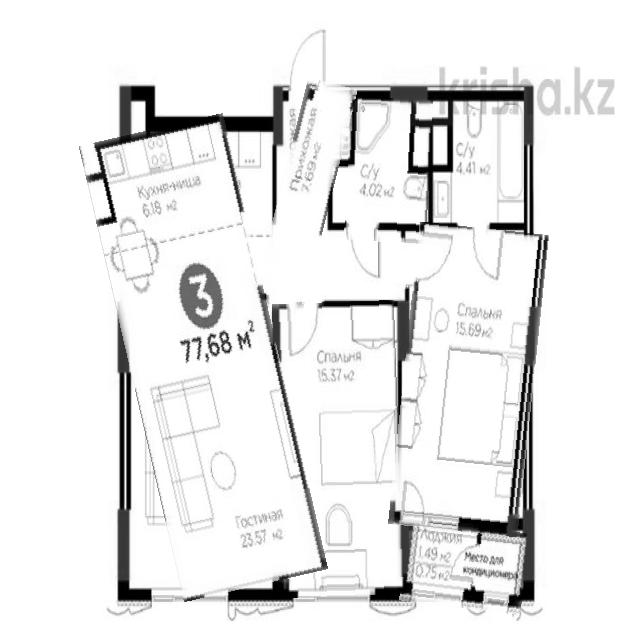balcony: (402, 523, 528, 612)
bathroom: (433, 93, 528, 237), (346, 97, 432, 243)
hallway: (265, 79, 344, 318)
living_room: (396, 226, 541, 534), (275, 301, 401, 597)
studio: (105, 119, 303, 597)
